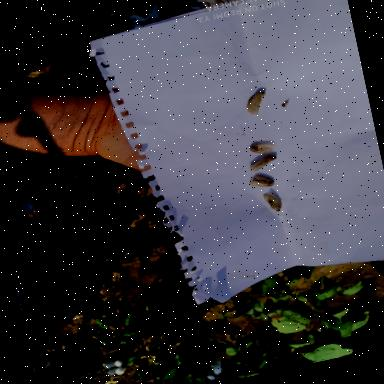abw: (238, 87, 272, 118), (258, 186, 292, 216), (241, 152, 281, 173), (243, 170, 278, 193), (245, 137, 279, 159)
